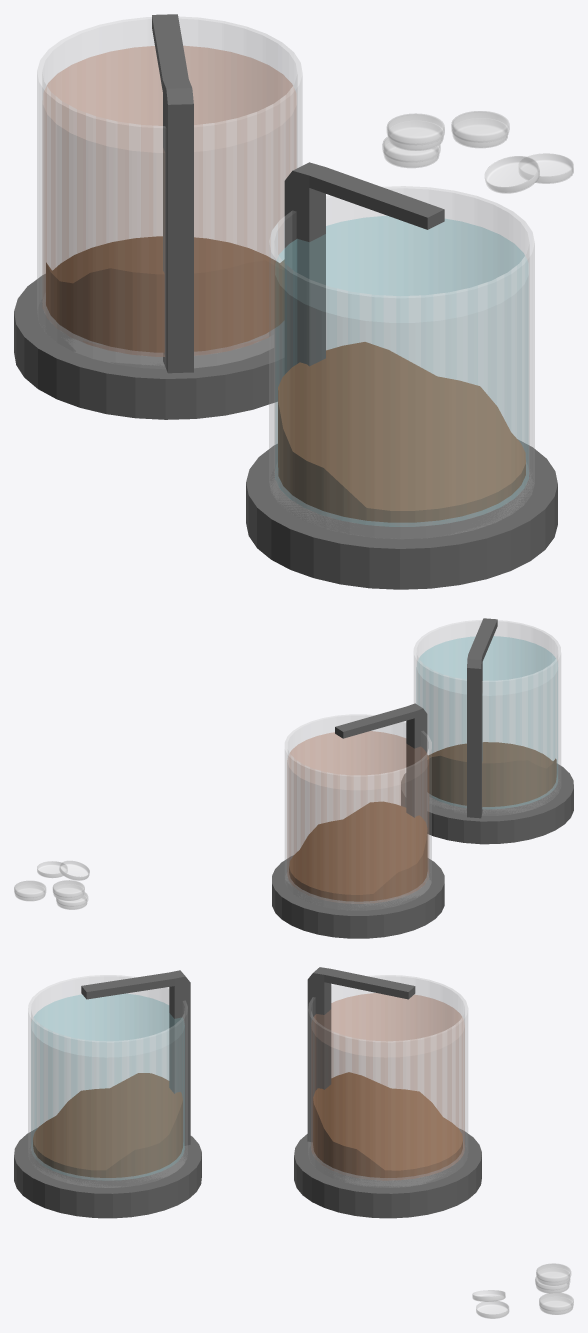
Rendered from 250618_ArcticBase_Martin_v3.13-3ScienceStations-MarineBiology.glb.
3 renders of one model, top to bottom at view 1: azimuth 30°, elevation 25°; view 2: azimuth 150°, elevation 25°; view 3: azimuth 270°, elevation 25°, orthographic. The views are drawn at different scales.
Visible parts, largest first — view 1: Glass, Glass.002, BlueWater, BrownWater.001, AquariumStand.Fresh, BottomSoil, AquariumStand.Sediment, BottomSoil.001, petri dishes; view 2: Glass.002, BrownWater.001, Glass, BlueWater, AquariumStand.Sediment, BottomSoil.001, AquariumStand.Fresh, BottomSoil, petri dishes; view 3: Glass, Glass.002, BrownWater.001, BlueWater, AquariumStand.Sediment, AquariumStand.Fresh, BottomSoil.001, BottomSoil, petri dishes.
Part boxes in pixels (left/top/right/bottom): Glass: left=269, top=186, right=534, bottom=538; Glass.002: left=37, top=16, right=302, bottom=368; BlueWater: left=275, top=216, right=528, bottom=526; BrownWater.001: left=43, top=46, right=296, bottom=356; AquariumStand.Fresh: left=246, top=162, right=557, bottom=589; BottomSoil: left=278, top=342, right=525, bottom=522; AquariumStand.Sediment: left=14, top=14, right=284, bottom=419; BottomSoil.001: left=46, top=236, right=284, bottom=352; petri dishes: left=382, top=111, right=573, bottom=193; Glass.002: left=285, top=714, right=431, bottom=909; BrownWater.001: left=287, top=731, right=428, bottom=903; Glass: left=414, top=620, right=560, bottom=815; BlueWater: left=416, top=636, right=557, bottom=808; AquariumStand.Sediment: left=272, top=703, right=444, bottom=938; BottomSoil.001: left=289, top=801, right=427, bottom=901; AquariumStand.Fresh: left=401, top=618, right=573, bottom=844; BottomSoil: left=427, top=742, right=556, bottom=806; petri dishes: left=14, top=861, right=89, bottom=909; Glass: left=28, top=975, right=187, bottom=1187; Glass.002: left=308, top=975, right=467, bottom=1187; BrownWater.001: left=311, top=993, right=464, bottom=1180; BlueWater: left=31, top=993, right=184, bottom=1180; AquariumStand.Sediment: left=294, top=967, right=481, bottom=1218; AquariumStand.Fresh: left=14, top=970, right=201, bottom=1218; BottomSoil.001: left=313, top=1072, right=462, bottom=1177; BottomSoil: left=33, top=1073, right=182, bottom=1177; petri dishes: left=472, top=1263, right=573, bottom=1318.
Bounding box in the file's own units: 1.08 × 0.5321 × 1.39.
